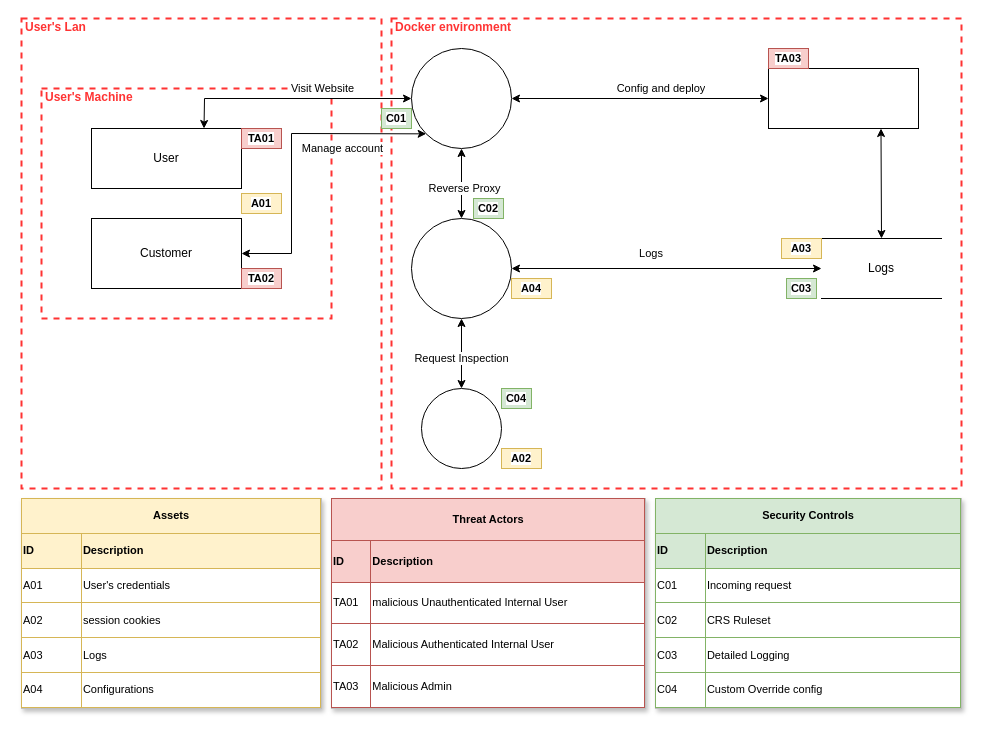
The diagram is 985 pixels wide and 733 high, and some of its shapes have lost their labels. The shapes that lost their labels are listed below. From the top down, each one's centre as x and y in pixels, then its label:
At (461,98): "Nginx".
At (843,98): "Admin".
At (461,268): "Modsecurity".
At (461,428): "Juiceshop".
